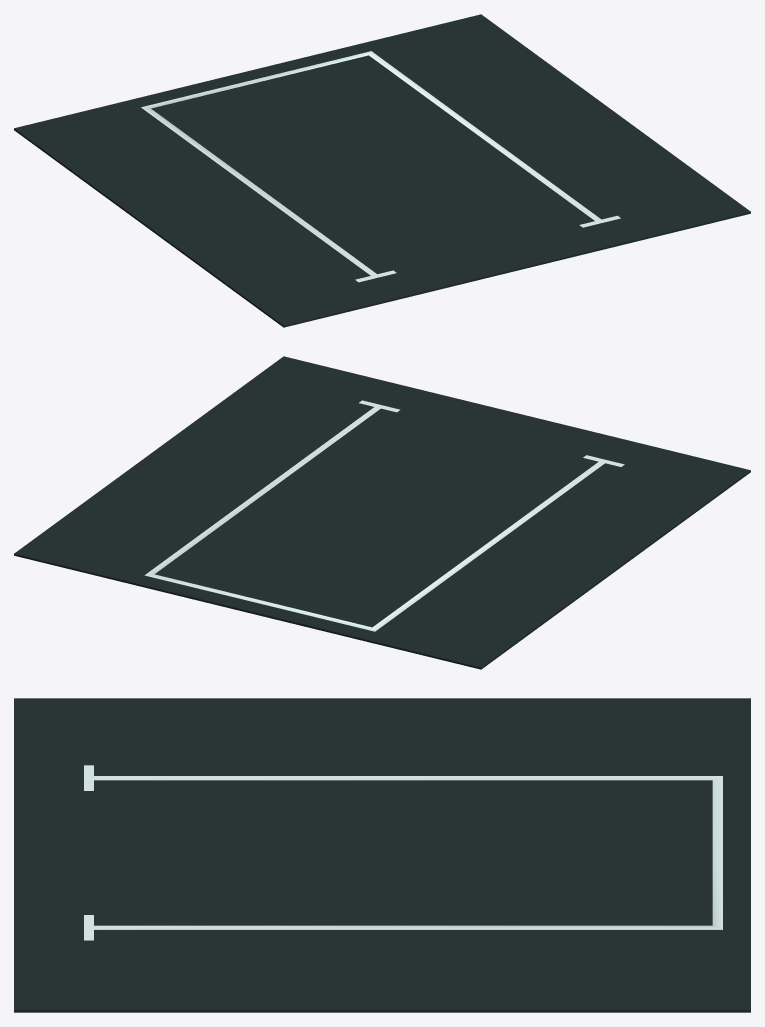
The model's file is Parking_180.fbx.
The picture shows the model from 3 angles, top to bottom: view 1: azimuth 30°, elevation 25°; view 2: azimuth 150°, elevation 25°; view 3: azimuth 270°, elevation 25°; orthographic projection. The views are drawn at different scales.
Parts seen in each view (by area): view 1: Parking; view 2: Parking; view 3: Parking.
Boxes of the visible parts, x1,y1,x2,y2 form: Parking: (14,14,750,327); Parking: (14,356,750,669); Parking: (14,698,750,1012).
Size of the model in its own units: 500 by 2.06 by 500.
